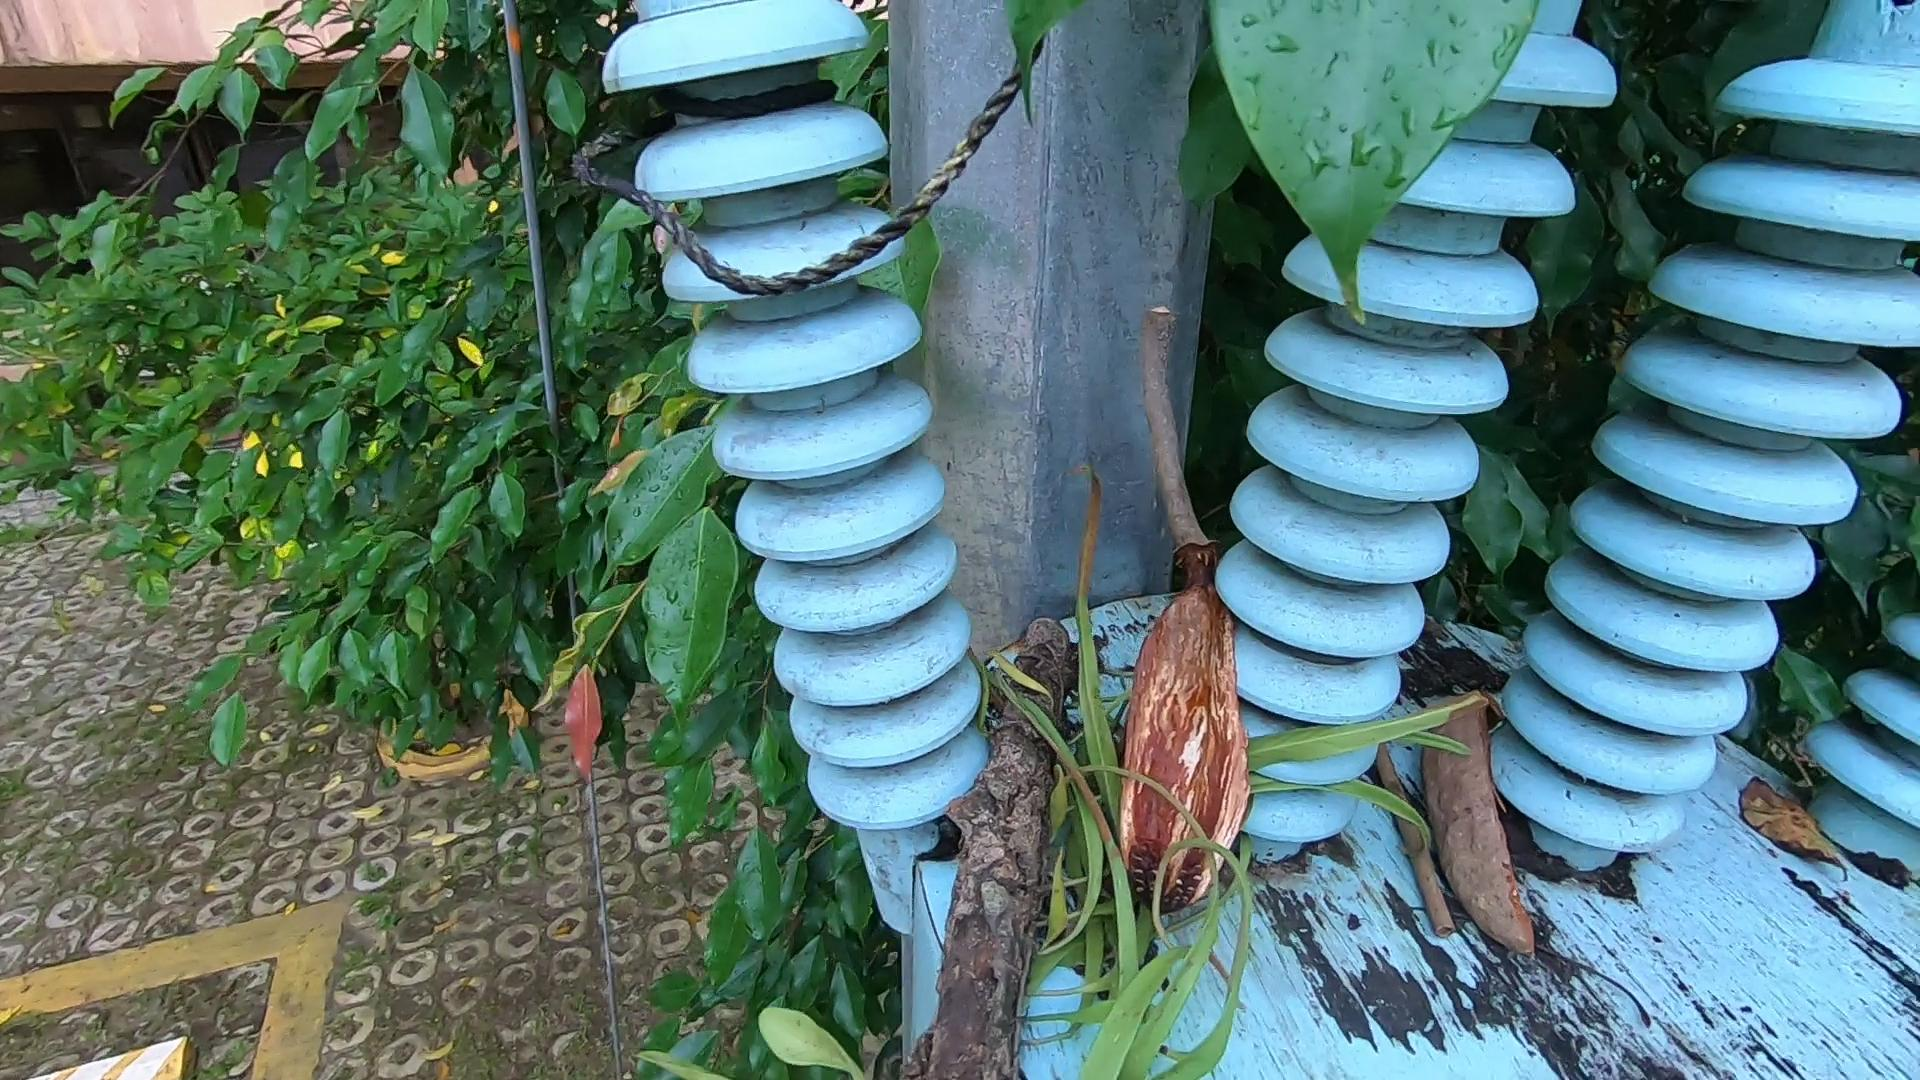branch with leaves: (872, 488, 1433, 1080)
leaf: (1737, 764, 1849, 876)
mahogany fruit: (1091, 560, 1342, 913), (1393, 659, 1656, 971)
tree branch: (1126, 290, 1245, 542), (1358, 736, 1464, 942)
